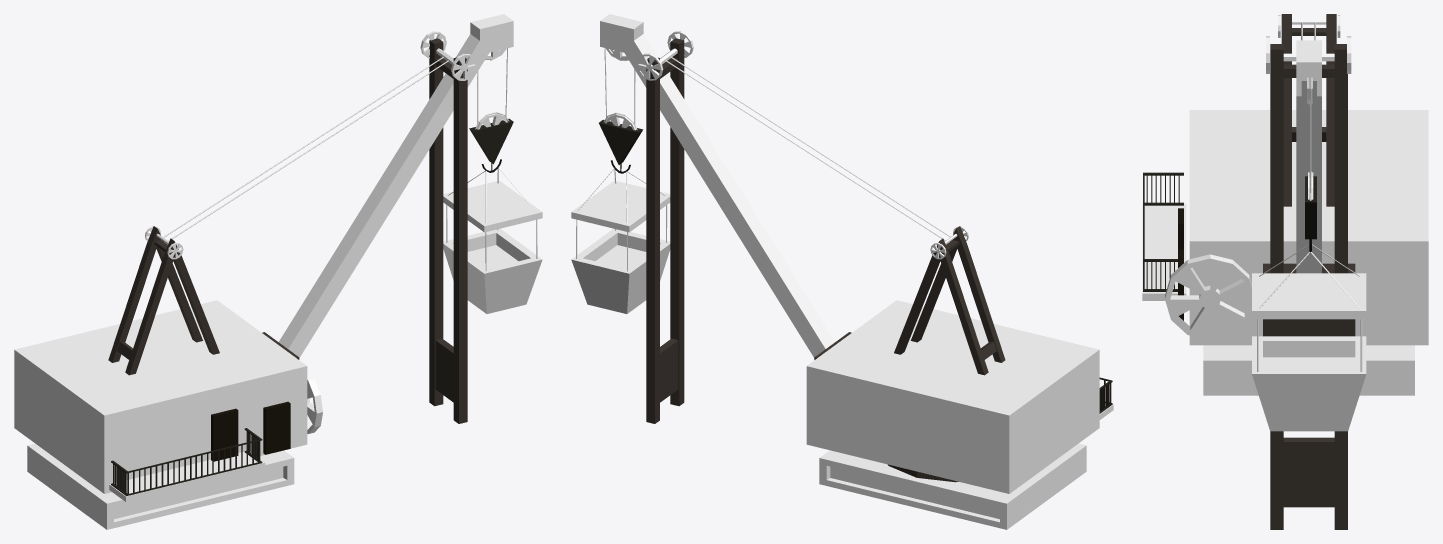
Rendered from Crane.fbx.
3 renders of one model, left to right at view 1: azimuth 30°, elevation 25°; view 2: azimuth 150°, elevation 25°; view 3: azimuth 270°, elevation 25°, orthographic. The views are drawn at different scales.
Visible parts, largest first — view 1: Crane, CraneLifter; view 2: Crane, CraneLifter; view 3: Crane, CraneLifter.
Boxes of the visible parts, box(x1,y1,x2,y2) form: Crane: box(14, 14, 513, 529); CraneLifter: box(443, 167, 542, 313); Crane: box(599, 14, 1113, 529); CraneLifter: box(571, 168, 670, 313); Crane: box(1142, 14, 1428, 529); CraneLifter: box(1252, 244, 1366, 431).
Bounding box in the file's own units: 17.42 × 13.71 × 7.06.
